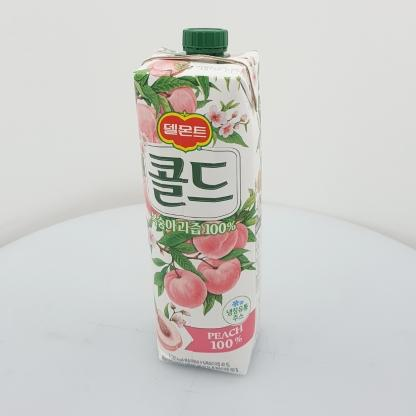-------------100_: (132, 27, 261, 375)
